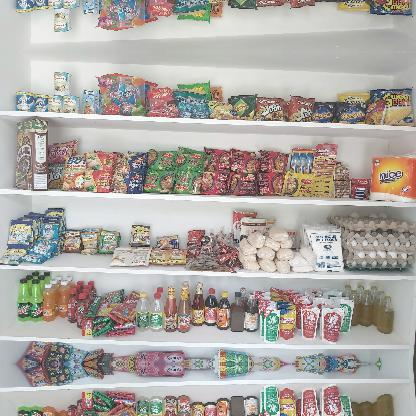Koko-Krunch: (14, 116, 50, 192)
